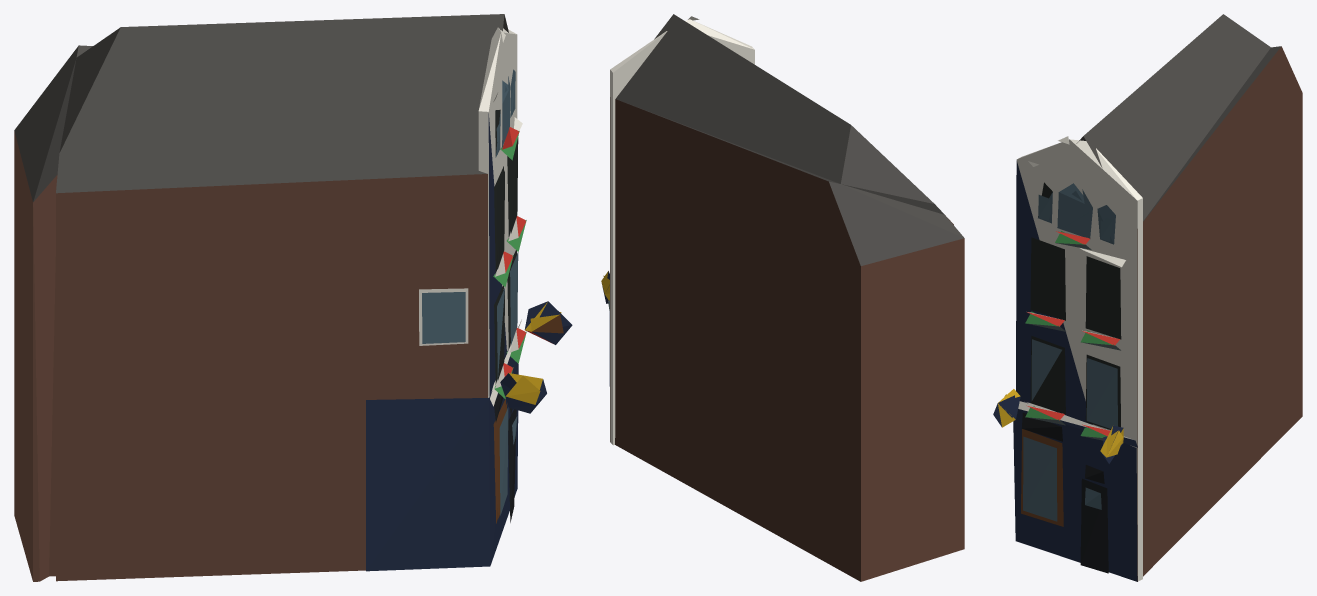
File: bulldog-first.lod2.glb
3 views of the same model, side by side, from view 1: azimuth 30°, elevation 25°; view 2: azimuth 150°, elevation 25°; view 3: azimuth 270°, elevation 25° (orthographic). The views are drawn at different scales.
Parts seen in each view (by area): view 1: lod2; view 2: lod2; view 3: lod2.
Part boxes in pixels (box(x1,y1,x2,y2)): lod2: box(14, 14, 572, 581); lod2: box(601, 14, 964, 581); lod2: box(993, 14, 1302, 581).
Size of the model in its own units: 13.81 by 13.68 by 8.98.
